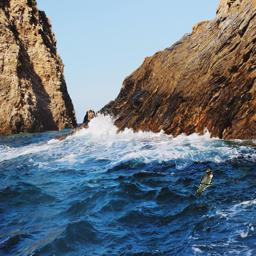Swallow: (194, 169, 213, 197)
